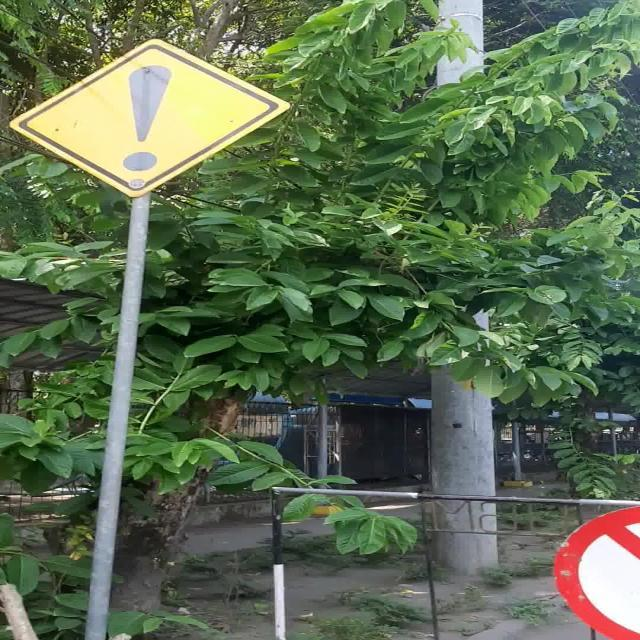Hati-Hati: (8, 37, 290, 196)
